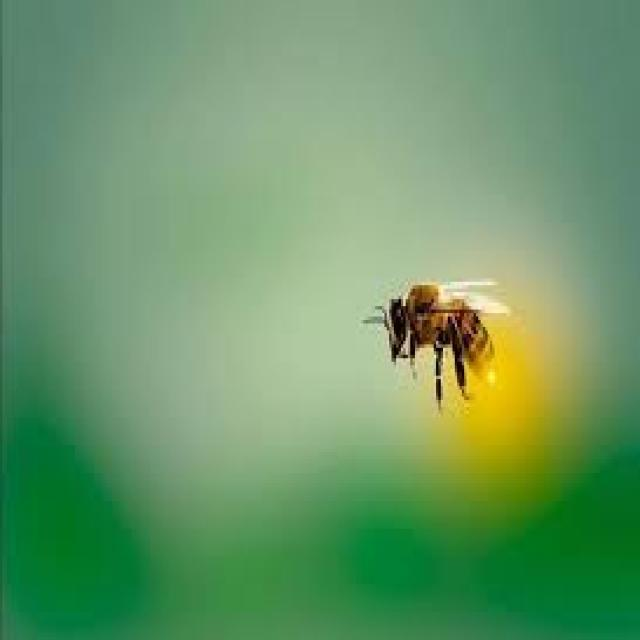Bees: (358, 280, 512, 409)
